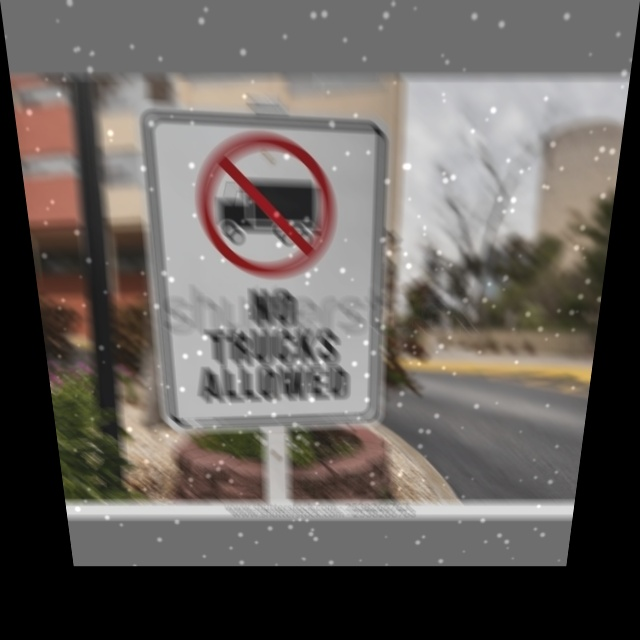Truck_Prohibited: (189, 125, 349, 283)
